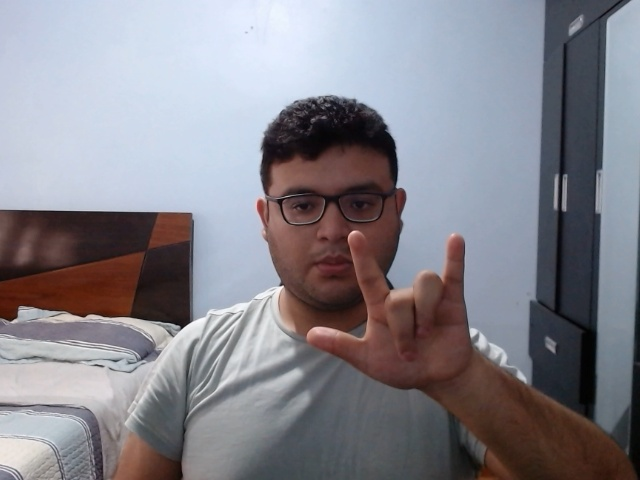I love you: (305, 228, 486, 404)
